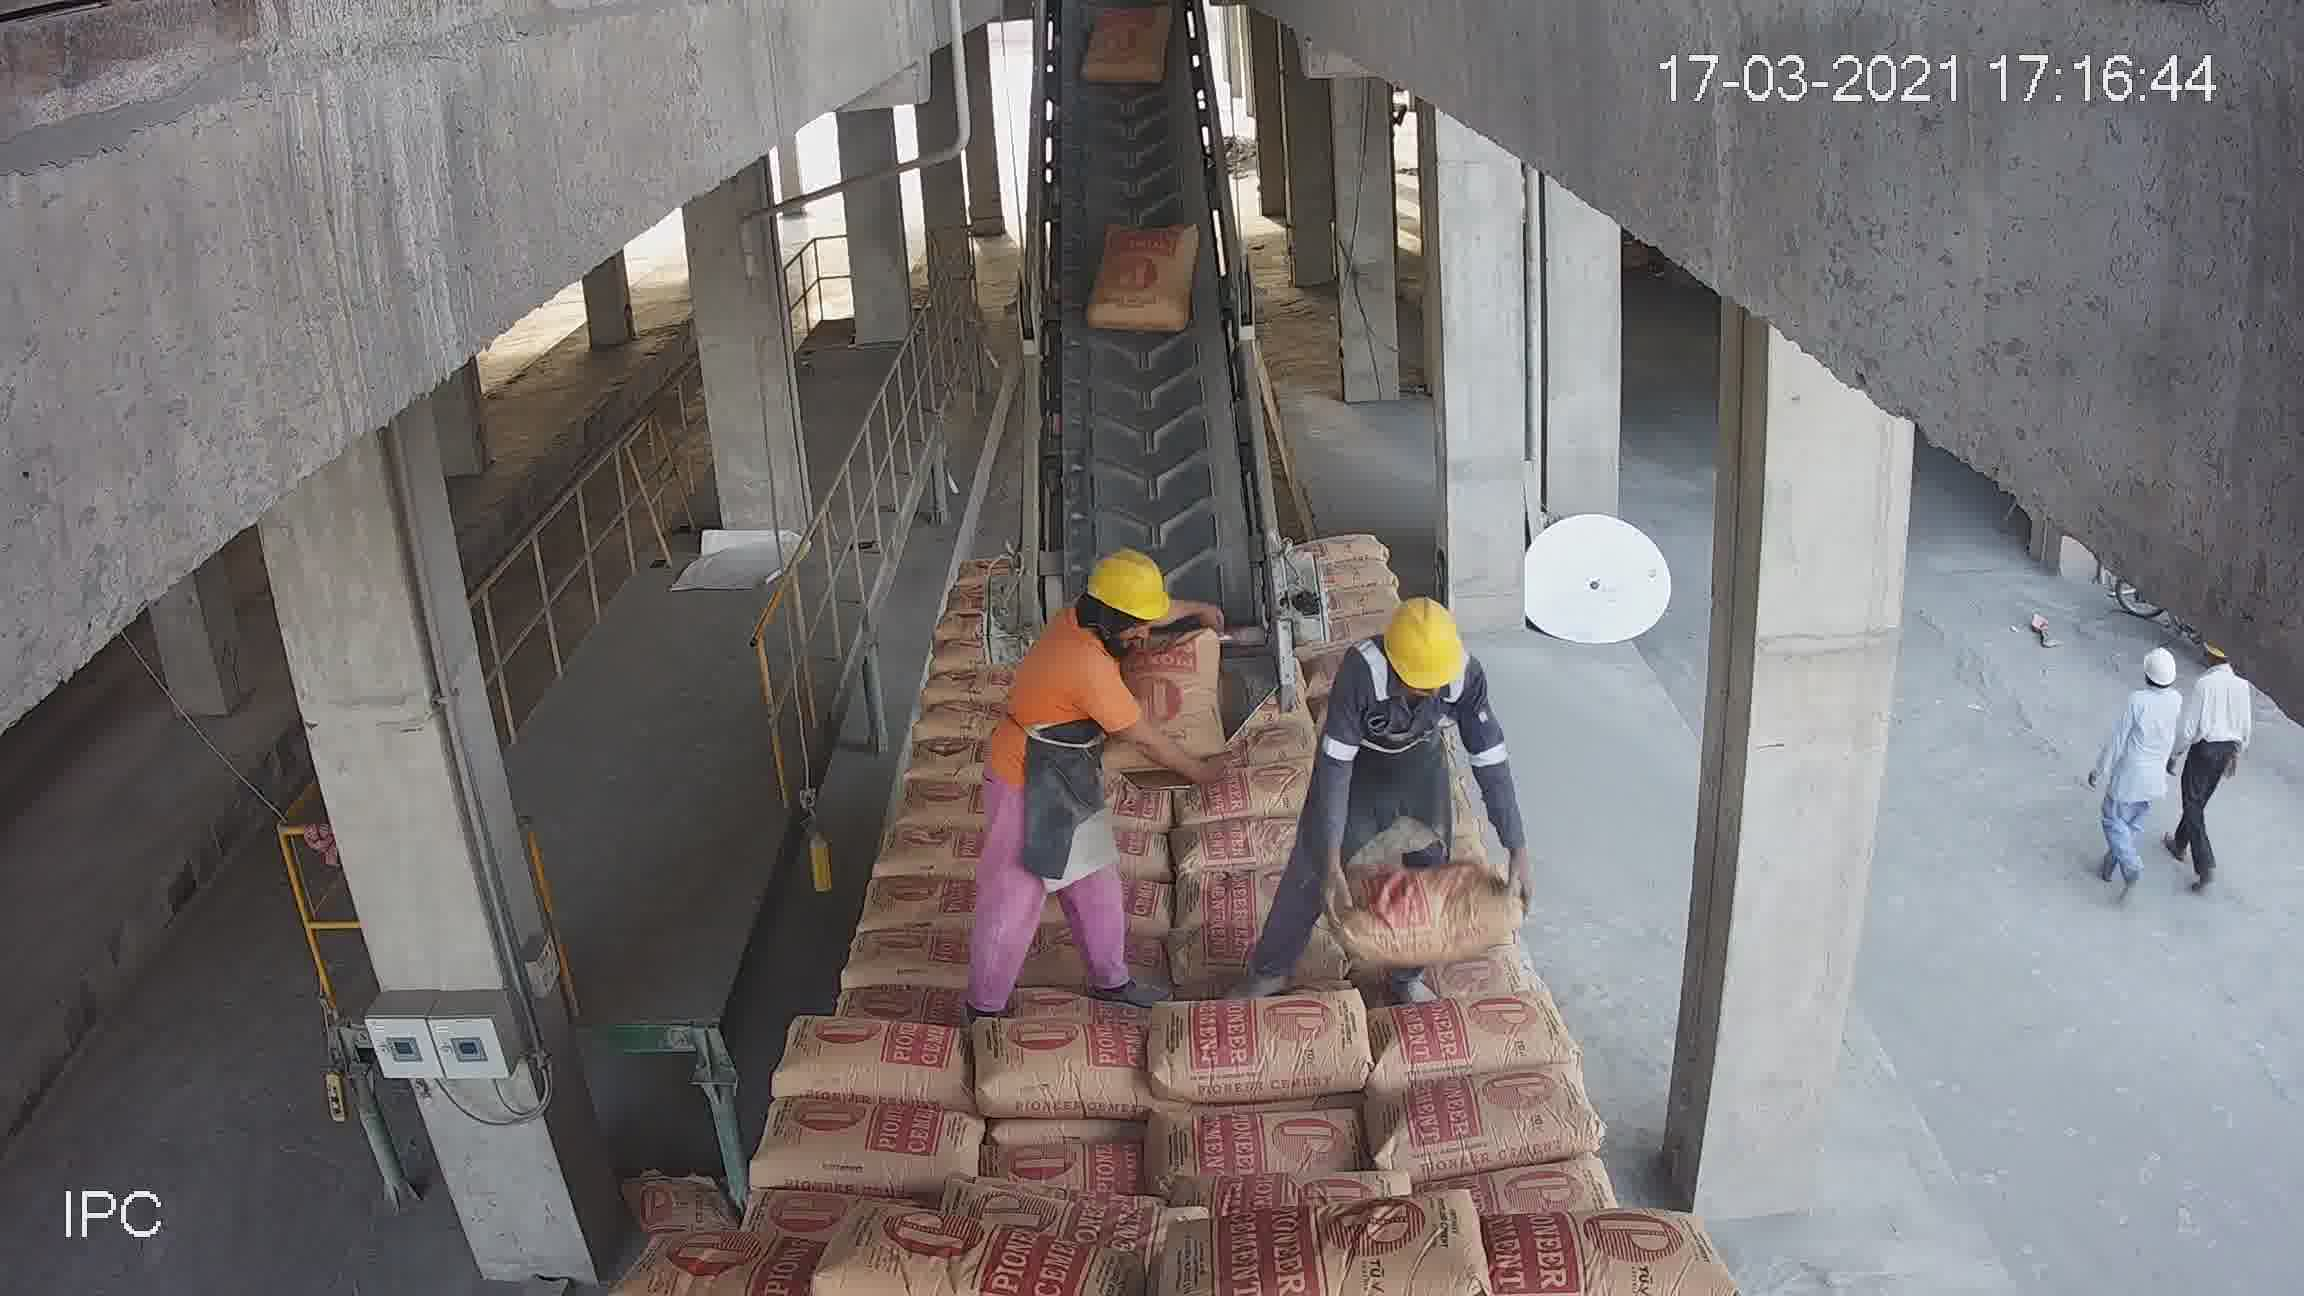bag: (1098, 214, 1196, 334)
bag_h: (1188, 1184, 1513, 1294), (1312, 847, 1541, 970), (1158, 981, 1374, 1108), (788, 1215, 1128, 1294), (1457, 1203, 1723, 1296), (748, 1100, 994, 1196), (1377, 1079, 1587, 1192), (970, 1008, 1155, 1130), (1351, 999, 1579, 1097), (1157, 1108, 1381, 1203), (772, 1022, 978, 1105), (636, 1228, 845, 1294), (809, 968, 972, 1036), (824, 923, 983, 991), (855, 859, 987, 935), (1165, 807, 1294, 881), (991, 1141, 1157, 1198), (1179, 769, 1320, 831), (869, 812, 984, 878), (892, 767, 980, 831), (1305, 555, 1412, 597), (1291, 533, 1400, 570)
bag_v: (1105, 628, 1230, 772)
belt: (1017, 30, 1283, 722)
